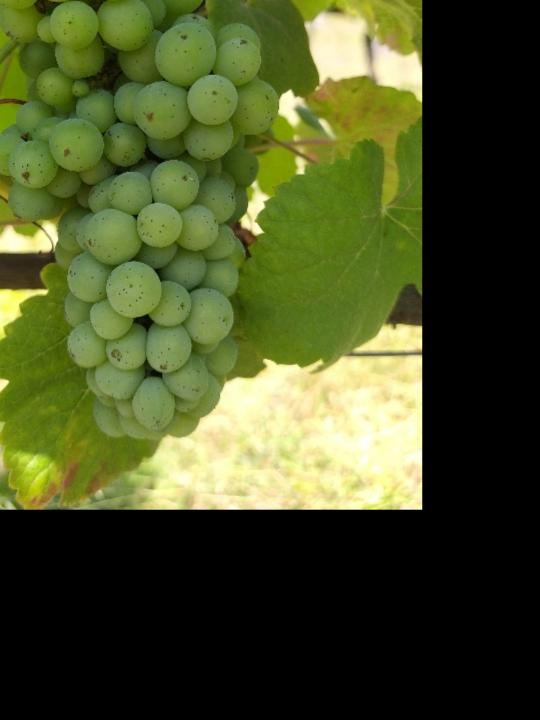grape: (0, 0, 284, 443)
